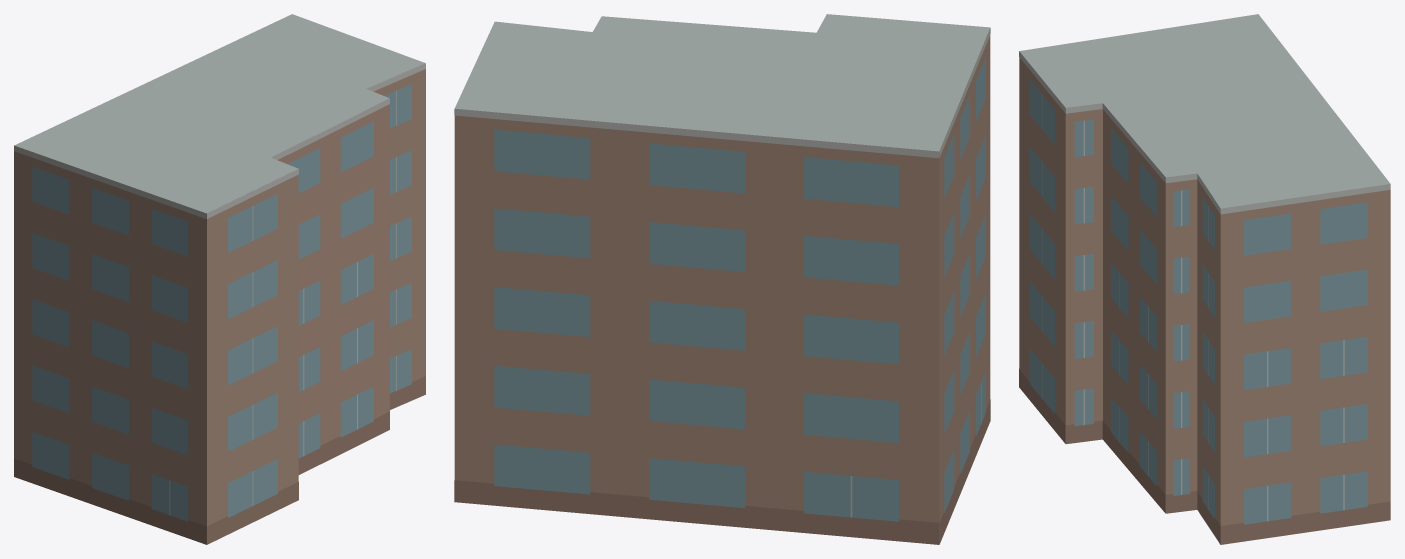
The model's file is survey-upis-32856631.glb.
3 renders of one model, left to right at view 1: azimuth 30°, elevation 25°; view 2: azimuth 150°, elevation 25°; view 3: azimuth 270°, elevation 25°, orthographic. The views are drawn at different scales.
Parts seen in each view (by area): view 1: survey-upis-32856631.tmp; view 2: survey-upis-32856631.tmp; view 3: survey-upis-32856631.tmp.
Boxes of the visible parts, x1=… form: survey-upis-32856631.tmp: x1=14, y1=14, x2=425, y2=544; survey-upis-32856631.tmp: x1=454, y1=14, x2=990, y2=544; survey-upis-32856631.tmp: x1=1019, y1=14, x2=1390, y2=544.
Size of the model in its own units: 17.64 by 14.2 by 14.23.
